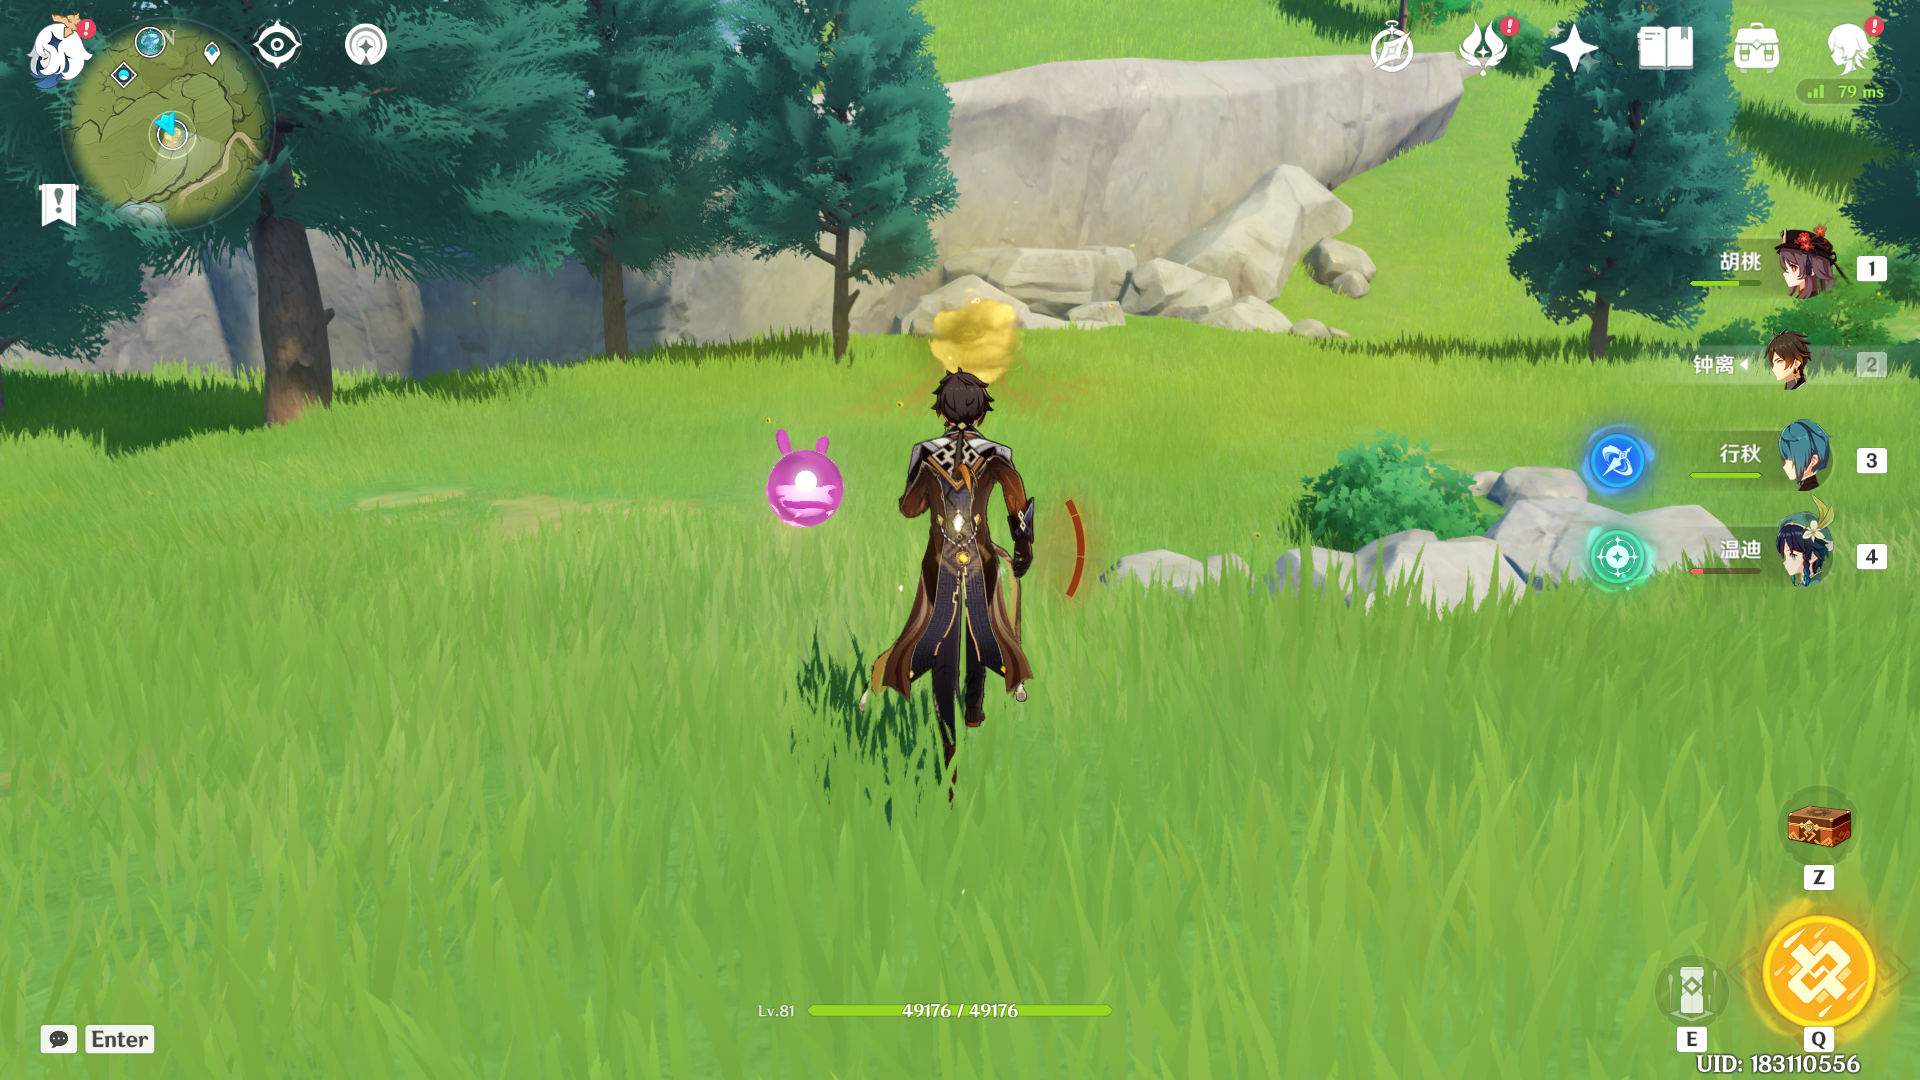character: (855, 353, 1083, 803)
